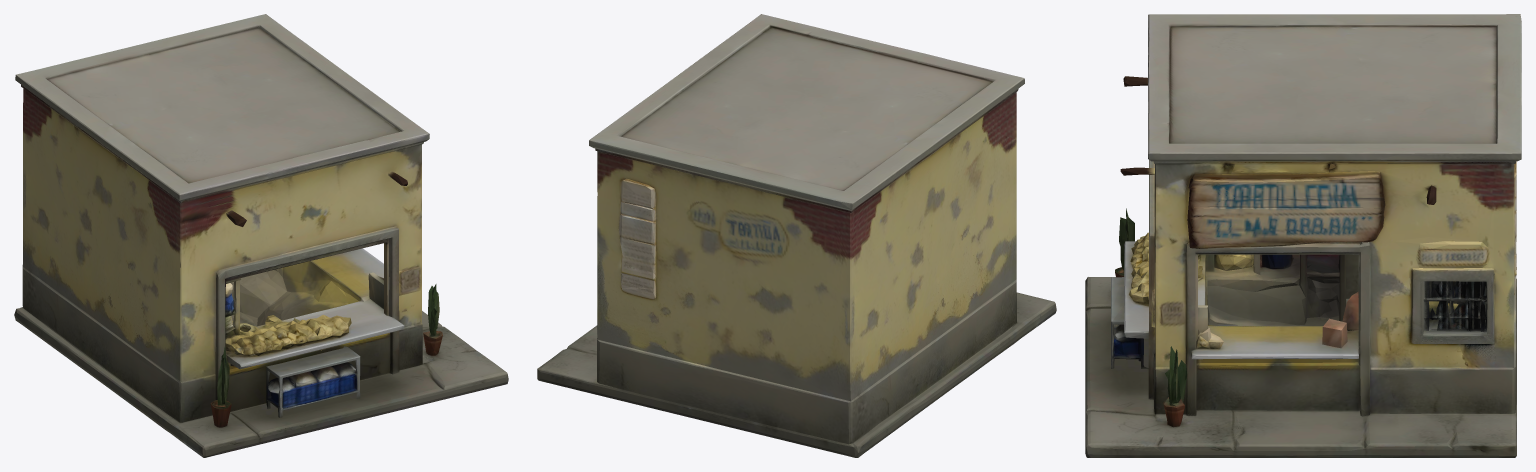
Rendered from tortilleria 1.glb.
The picture shows the model from 3 angles, left to right: view 1: azimuth 30°, elevation 25°; view 2: azimuth 150°, elevation 25°; view 3: azimuth 270°, elevation 25°; orthographic projection. The views are drawn at different scales.
Visible parts, largest first — view 1: tripo_node_3d18b908-8bb2-4563-b7e3-0b6eae50e913; view 2: tripo_node_3d18b908-8bb2-4563-b7e3-0b6eae50e913; view 3: tripo_node_3d18b908-8bb2-4563-b7e3-0b6eae50e913.
Boxes of the visible parts, x1,y1,x2,y2 form: tripo_node_3d18b908-8bb2-4563-b7e3-0b6eae50e913: (14, 14, 508, 457); tripo_node_3d18b908-8bb2-4563-b7e3-0b6eae50e913: (537, 14, 1056, 457); tripo_node_3d18b908-8bb2-4563-b7e3-0b6eae50e913: (1085, 14, 1521, 457).
Size of the model in its own units: 0.9221 by 0.7024 by 0.9999.
Materials: 1 (1 with a texture image).
